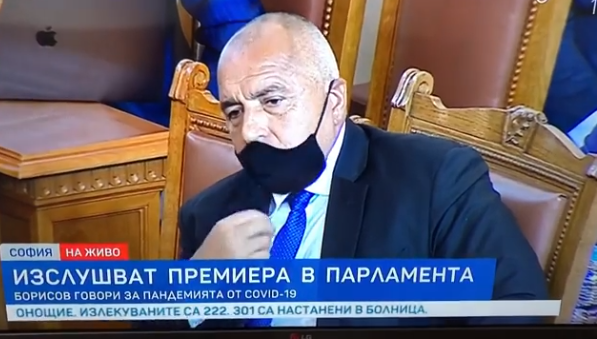WrongMask: (227, 121, 356, 192)
